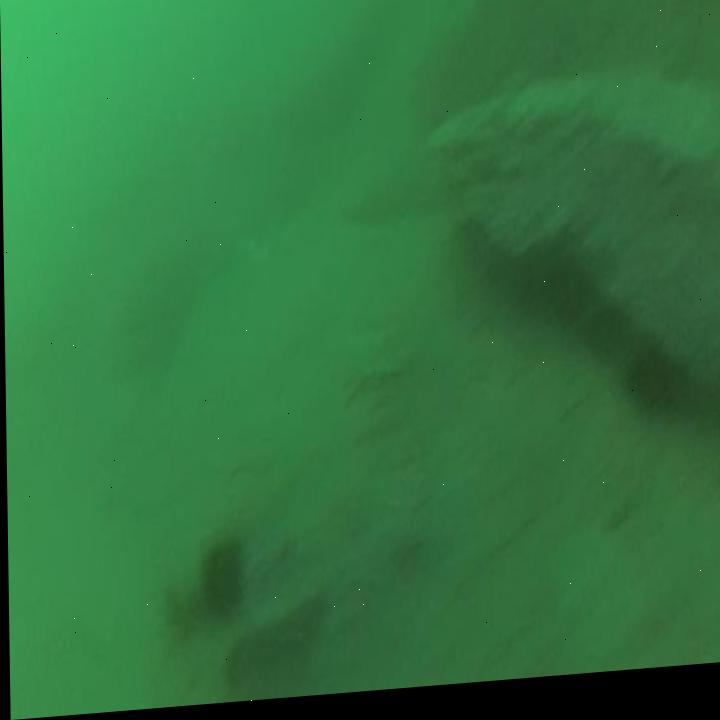echinus: (189, 532, 244, 634)
